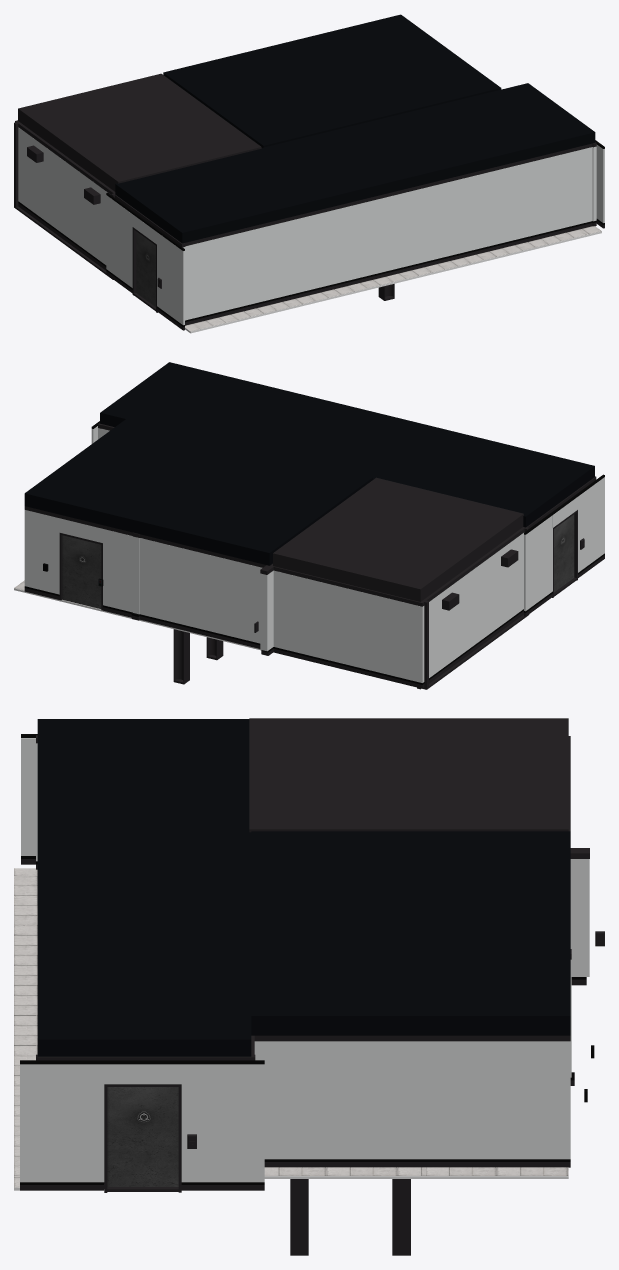
The model's file is SCP Test Room.obj.
The picture shows the model from 3 angles, top to bottom: view 1: azimuth 30°, elevation 25°; view 2: azimuth 150°, elevation 25°; view 3: azimuth 270°, elevation 25°; orthographic projection. The views are drawn at different scales.
Parts seen in each view (by area): view 1: Part52, Part43, Part80, Part154, Part38, Part40, Part126, Part44, Part46, Door14, Part45, Part300 (+3 smaller); view 2: Part52, Part80, Part28, Part154, Part38, Door3, Part15, Part126, Part40, Part29, Door14, Part26 (+10 smaller); view 3: Part52, Part80, Part90, Part154, Part307, Part51, Door9, Part188, Part91, Part88, Part40, Part54 (+10 smaller).
Part boxes in pixels (<box>): Part52: <box>115,83,595,243</box>; Part43: <box>185,147,592,320</box>; Part80: <box>163,14,501,147</box>; Part154: <box>18,73,261,191</box>; Part38: <box>18,127,107,264</box>; Part40: <box>157,232,184,325</box>; Part126: <box>106,195,132,287</box>; Part44: <box>185,143,592,246</box>; Part46: <box>185,223,592,325</box>; Door14: <box>136,231,155,306</box>; Part45: <box>185,221,592,321</box>; Part300: <box>185,305,275,331</box>; Part52: <box>100,362,594,527</box>; Part80: <box>24,418,372,565</box>; Part28: <box>102,529,417,681</box>; Part154: <box>273,477,523,601</box>; Part38: <box>417,533,523,682</box>; Door3: <box>62,535,101,608</box>; Part15: <box>30,511,59,594</box>; Part126: <box>524,515,552,611</box>; Part40: <box>578,477,604,572</box>; Part29: <box>24,506,419,605</box>; Door14: <box>554,514,574,592</box>; Part26: <box>103,607,417,687</box>; Part52: <box>37,719,251,1056</box>; Part80: <box>251,831,570,1035</box>; Part90: <box>254,1041,570,1159</box>; Part154: <box>249,718,568,832</box>; Part307: <box>20,1064,104,1182</box>; Part51: <box>181,1064,264,1182</box>; Door9: <box>107,1087,178,1186</box>; Part188: <box>570,859,589,976</box>; Part91: <box>254,1035,561,1041</box>; Part88: <box>264,1162,570,1167</box>; Part40: <box>21,738,35,855</box>; Part54: <box>103,1064,180,1084</box>.
Bounding box in the file's own units: 50.51 × 22.3 × 38.15.
19 materials, 4 textured.
